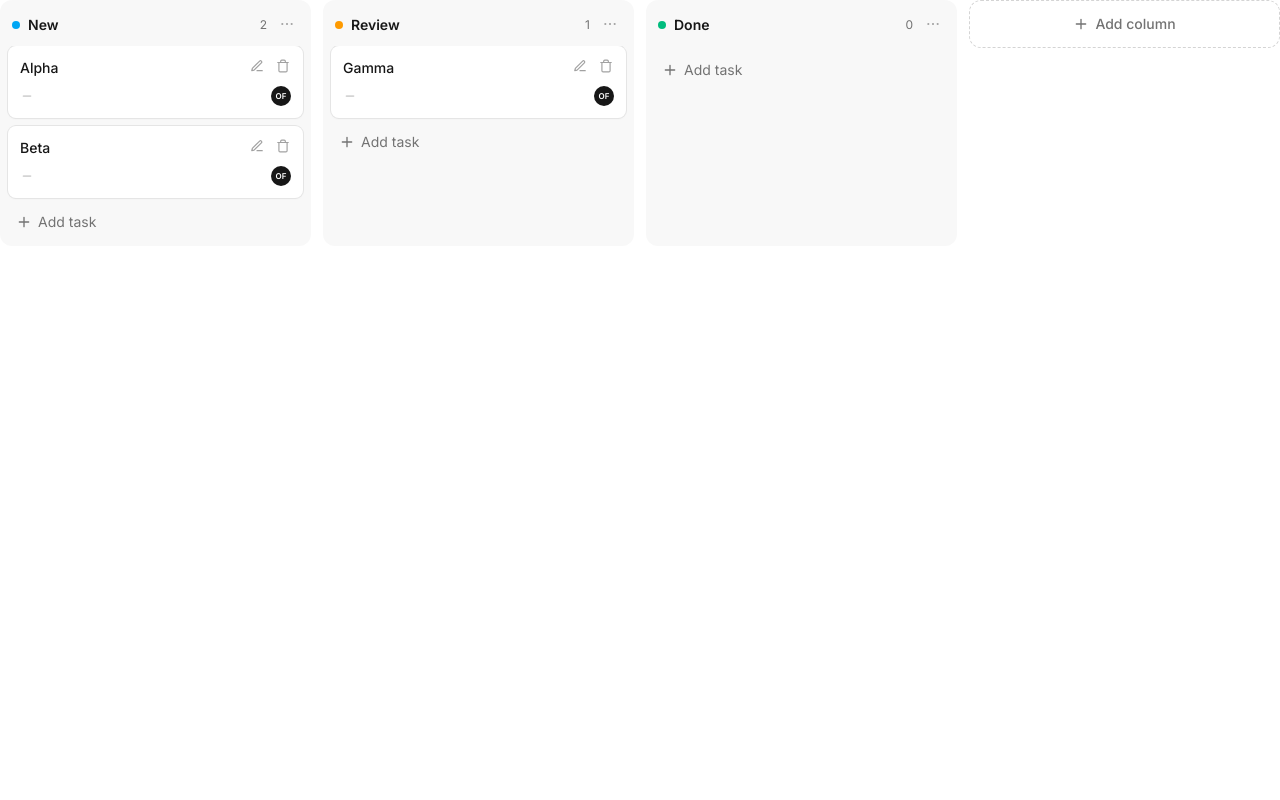
Test: KanbanBoard › deletes a column after saying what happens to its tasks
What coordinates should you click on to do the following:
click the button named "New column options"
I would click on:
 (287, 24)
Its box is 275,12 -> 299,36.
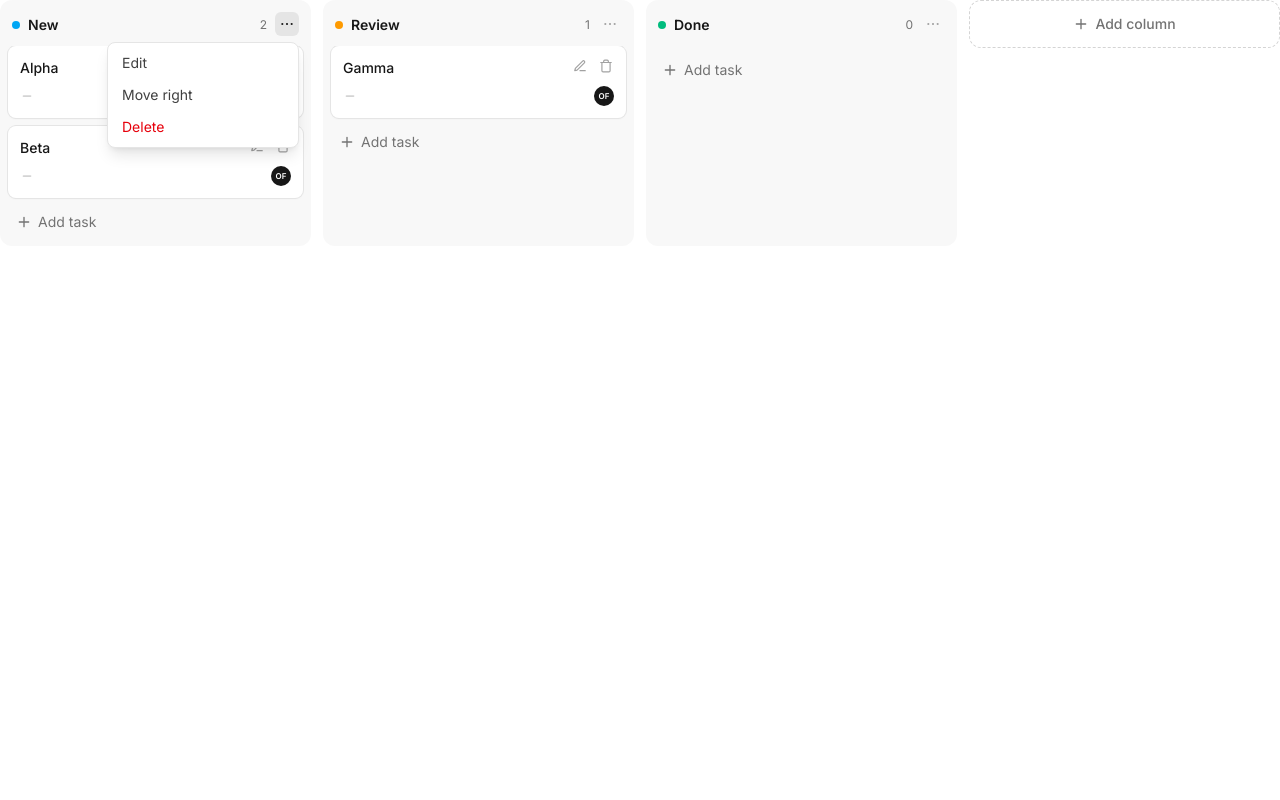
What coordinates should you click on to do the following:
click the menu item "Delete"
I would click on:
 (203, 127)
Its box is 112,111 -> 294,143.
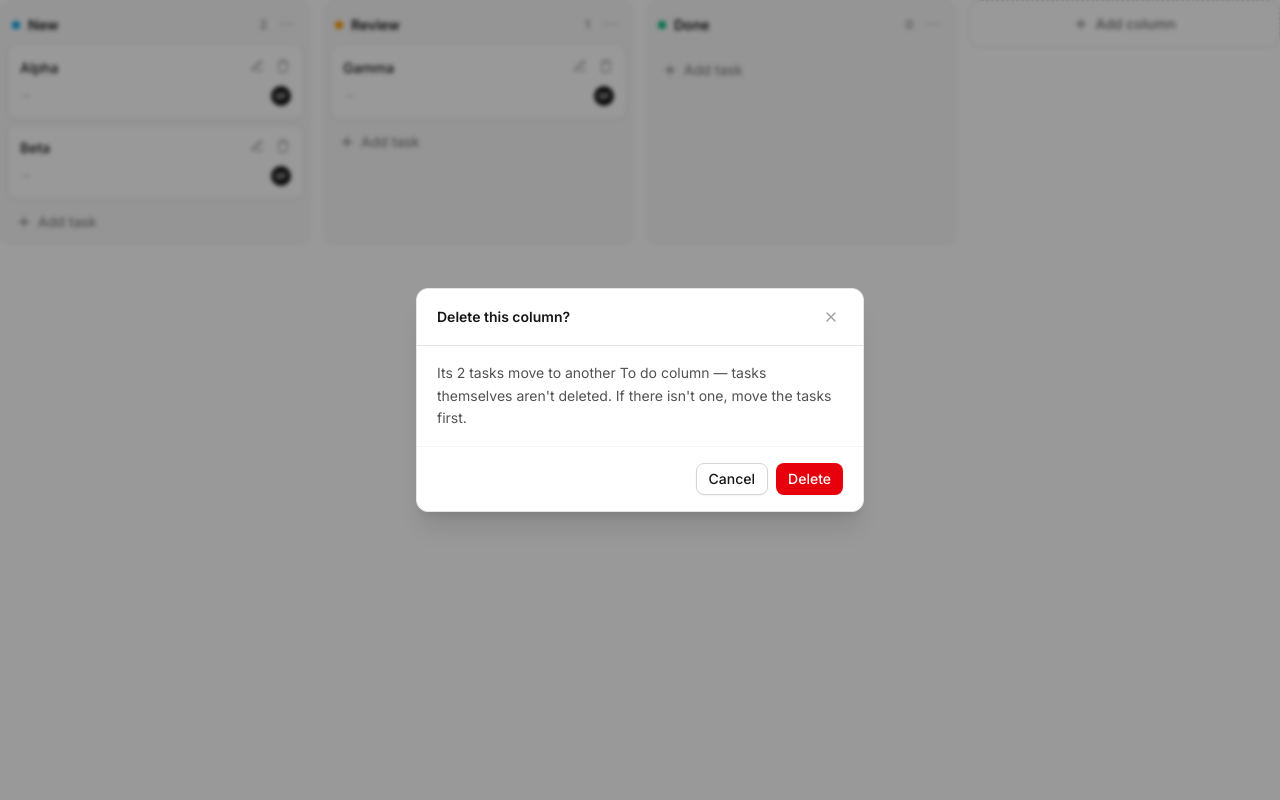
What coordinates should you click on to do the following:
click the button "Delete"
I would click on:
 (810, 479)
Its box is 776,463 -> 843,495.
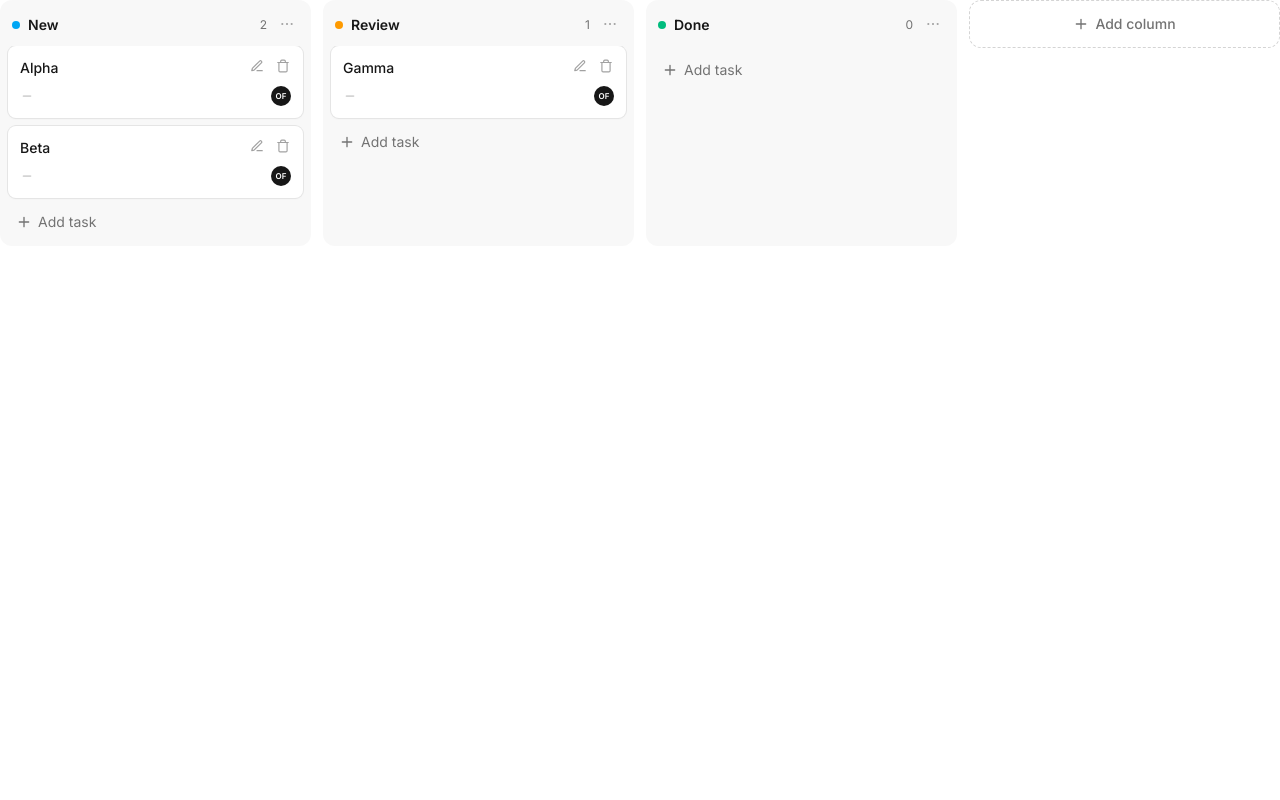
What coordinates should you click on to do the following:
click the button named "Done column options"
I would click on:
 (933, 24)
Its box is 921,12 -> 945,36.
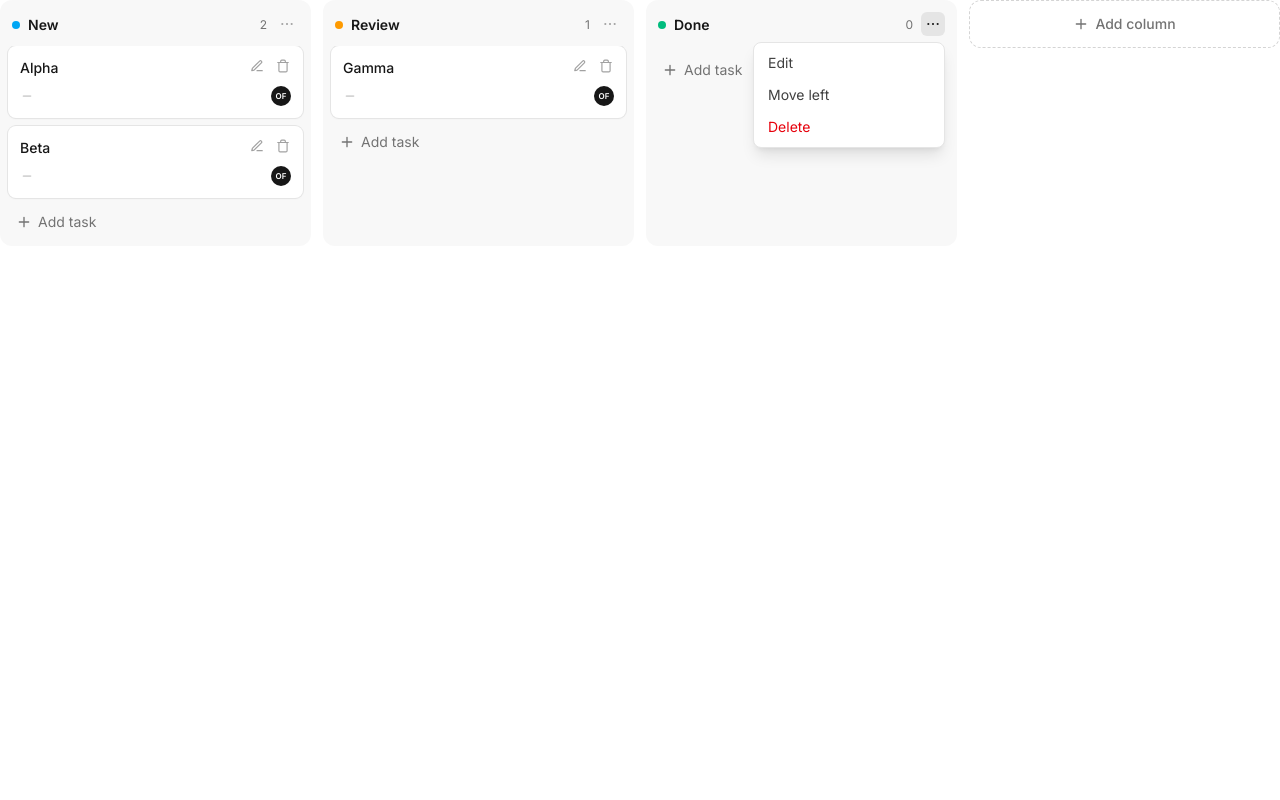
What coordinates should you click on to do the following:
click the menu item "Delete"
I would click on:
 (849, 127)
Its box is 758,111 -> 940,143.
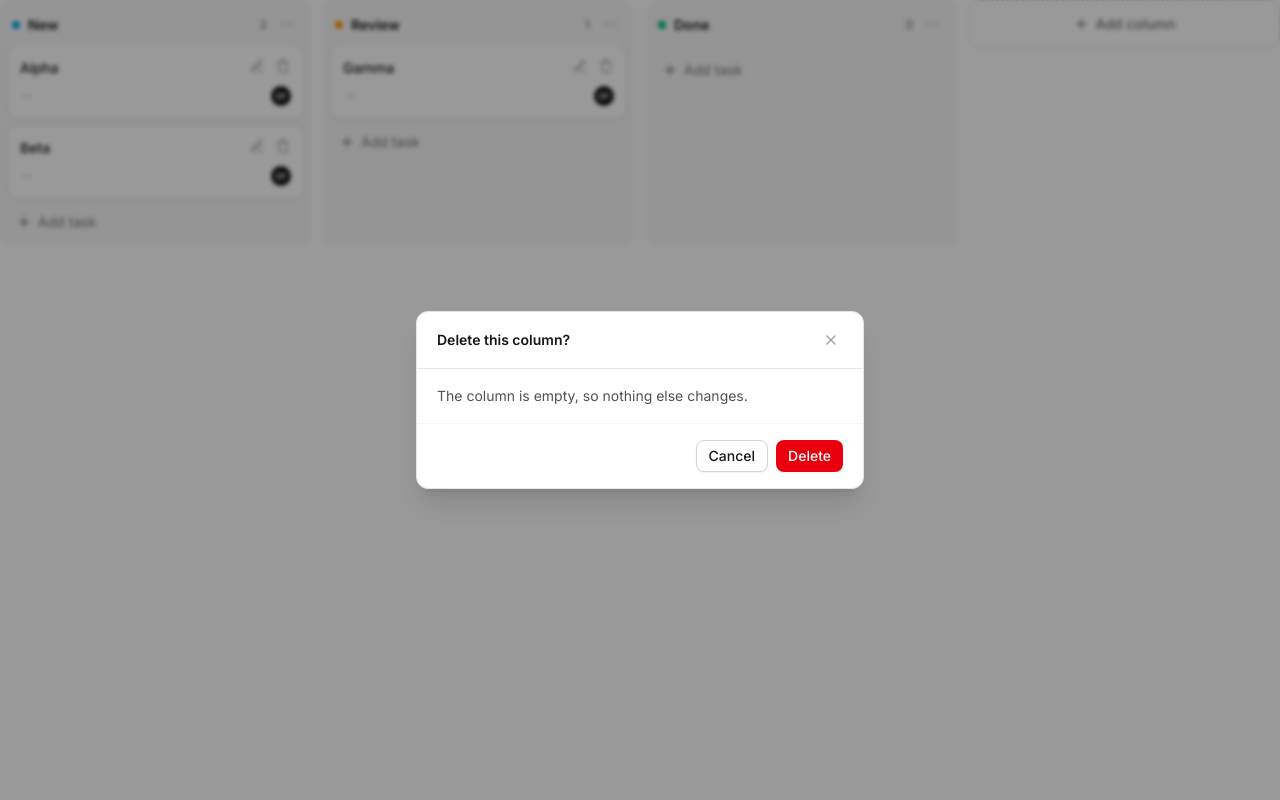
Expected: the dialog shows "The column is empty, so nothing else changes.", 437,387 -> 748,404
